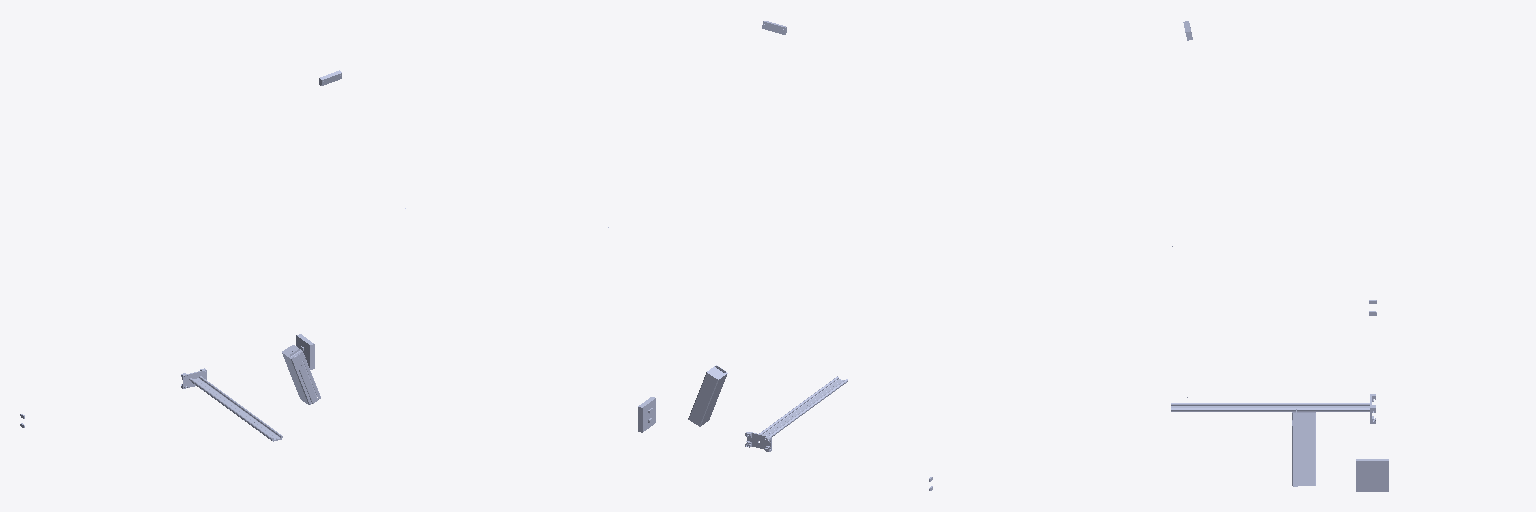
--- Render facts (derived) ---
The picture shows the robot from 3 angles, left to right: view 1: azimuth 30°, elevation 25°; view 2: azimuth 150°, elevation 25°; view 3: azimuth 270°, elevation 25°; orthographic projection.
Model robo_description with 21 links and 20 joints (2 revolute, 2 prismatic, 16 fixed), rooted at base_link, posed all joints at 0 but 1 set to mid-range because 0 is outside their limits (joint5 = 0.4665).
Visible links, largest first — view 1: link2, link5; view 2: link2, link5, base_link; view 3: link2, link5, base_link.
Link boxes in pixels (x1,y1,x2,y2): link2: [181, 368, 282, 441]; link5: [282, 345, 320, 404]; link2: [745, 376, 847, 451]; link5: [688, 365, 727, 426]; base_link: [638, 397, 932, 490]; link2: [1171, 394, 1375, 423]; link5: [1292, 409, 1315, 486]; base_link: [1356, 300, 1388, 491].
Bounding box of the posed robot: 1.65 × 0.657 × 1.48 m (x, y, z).
Meshes: 6 distinct files referenced, 4 mesh visuals loaded (4 binary STL); not drawn: 2 (reference not matched to a file when rendering).

URDF robot description (robo_description):
<?xml version="1.0" encoding="utf-8"?>
<!-- 25AUG2023 Changed the minimum limit of lJoint5 to 0.247 and max to 0.686 -->
<!-- This URDF was automatically created by SolidWorks to URDF Exporter! Originally created by Stephen Brawner ([email redacted]) 
     Commit Version: 1.6.0-4-g7f85cfe  Build Version: 1.6.7995.38578
     For more information, please see http://wiki.ros.org/sw_urdf_exporter -->
<robot
  name="robo_description">
  <link
    name="base_link">
    <inertial>
      <origin
        xyz="-5.13826234849775E-17 -1.63904738952765E-17 0.339473684210526"
        rpy="0 0 0" />
      <mass
        value="19" />
      <inertia
        ixx="2.34956140350877"
        ixy="1.11311423041845E-17"
        ixz="3.69215798456927E-16"
        iyy="2.34956140350877"
        iyz="-7.44985984223617E-17"
        izz="0.151666666666667" />
    </inertial>
    <visual>
      <origin
        xyz="0 0 0"
        rpy="0 0 0" />
      <geometry>
        <mesh
          filename="package://robo_description/meshes/base_link.STL" />
      </geometry>
      <material
        name="">
        <color
          rgba="0.792156862745098 0.819607843137255 0.933333333333333 1" />
      </material>
    </visual>
    <collision>
      <origin
        xyz="0 0 0"
        rpy="0 0 0" />
      <geometry>
        <mesh
          filename="package://robo_description/meshes/base_link.STL" />
      </geometry>
    </collision>
  </link>
  <link
    name="link2">
    <inertial>
      <origin
        xyz="-0.001261 -0.2858 0.14572"
        rpy="0 0 0" />
      <mass
        value="3.13280329013611" />
      <inertia
        ixx="0.0169430024052603"
        ixy="-0.00280446630124331"
        ixz="0.0223183329111622"
        iyy="0.162057682822749"
        iyz="0.000505061238040558"
        izz="0.161640952999751" />
    </inertial>
    <visual>
      <origin
        xyz="0 0 -1"
        rpy="0 0 0" />
      <geometry>
        <mesh
          filename="package://robo_description/meshes/link2.STL" />
      </geometry>
      <material
        name="">
        <color
          rgba="0.792156862745098 0.819607843137255 0.933333333333333 1" />
      </material>
    </visual>
    <collision>
      <origin
        xyz="0 0 0"
        rpy="0 0 0" />
      <geometry>
        <mesh
          filename="package://robo_description/meshes/link2.STL" />
      </geometry>
    </collision>
  </link>
  <joint
    name="joint2"
    type="prismatic">
    <origin
      xyz="0.0 0 1"
      rpy="0 0 0" />
    <parent
      link="base_link" />
    <child
      link="link2" />
    <axis
      xyz="0 0 1" />
    <limit
      lower="0"
      upper="1"
      effort="0"
      velocity="0" />
  </joint>
  <link
    name="link4">
    <inertial>
      <origin
        xyz="-0.000438554587764983 0.0620490502692163 -0.172885898172371"
        rpy="0 0 0" />
      <mass
        value="0.162146723185788" />
      <inertia
        ixx="0.00336616371871891"
        ixy="1.46811284877534E-06"
        ixz="-3.57096843523024E-06"
        iyy="0.00312866852492012"
        iyz="0.00048231220150353"
        izz="0.000338308018448651" />
    </inertial>
    <visual>
      <origin
        xyz="-0.4665 0 -0.790"
        rpy="0 0 0" />
      <geometry>
        <mesh
          filename="package://robo_description/meshes/link4.STL" />
      </geometry>
      <material
        name="">
        <color
          rgba="0.792156862745098 0.819607843137255 0.933333333333333 1" />
      </material>
    </visual>
    <collision>
      <origin
        xyz="0 0 0"
        rpy="0 0 0" />
      <geometry>
        <mesh
          filename="package://robo_description/meshes/link4.STL" />
      </geometry>
    </collision>
  </link>
  <joint
    name="joint4"
    type="revolute">
    <origin
      xyz="0.46904 0 -0.21"
      rpy="0 0 0" />
    <parent
      link="link2" />
    <child
      link="link4" />
    <axis
      xyz="0 0 1" />
    <limit
      lower="-2.9671"
      upper="2.9671"
      effort="0"
      velocity="0" />
  </joint>
  <link
    name="link3">
    <inertial>
      <origin
        xyz="-0.0832189655707039 -0.0894795892974461 -0.00179630042130147"
        rpy="0 0 0" />
      <mass
        value="1.71811977068641" />
      <inertia
        ixx="0.00948440583507882"
        ixy="-0.00159429497921182"
        ixz="0.00308193362516688"
        iyy="0.035537875179704"
        iyz="0.000648421421055908"
        izz="0.0305779645247813" />
    </inertial>
    <visual>
      <origin
        xyz="-0.468545 -0.078 -0.43528"
        rpy="0 0 0" />
      <geometry>
        <mesh
          filename="package://robo_description/meshes/link3.STL" />
      </geometry>
      <material
        name="">
        <color
          rgba="0.792156862745098 0.819607843137255 0.933333333333333 1" />
      </material>
    </visual>
    <collision>
      <origin
        xyz="0 0 0"
        rpy="0 0 0" />
      <geometry>
        <mesh
          filename="package://robo_description/meshes/link3.STL" />
      </geometry>
    </collision>
  </link>
  <joint
    name="joint3"
    type="revolute">
    <origin
      xyz="0.0 0.077824 -0.35472"
      rpy="0 0 0" />
    <parent
      link="link4" />
    <child
      link="link3" />
    <axis
      xyz="0 1 0" />
    <limit
      lower="-1.5708"
      upper="1.5708"
      effort="0"
      velocity="0" />
  </joint>
  <link
    name="yanthra_link">
    <inertial>
      <origin
        xyz="-0.0832189655707036 -0.0114795892974462 -0.00179630042130124"
        rpy="0 0 0" />
      <mass
        value="1.71811977068641" />
      <inertia
        ixx="0.00948440583507882"
        ixy="-0.00159429497921182"
        ixz="0.0030819336251669"
        iyy="0.035537875179704"
        iyz="0.000648421421055907"
        izz="0.0305779645247813" />
    </inertial>
    <visual>
      <origin
        xyz="0 0 0"
        rpy="0 0 0" />
      <geometry>
        <box size="0.001 0.001 0.001"/>
      </geometry>
      <material
        name="">
        <color
          rgba="0.792156862745098 0.819607843137255 0.933333333333333 1" />
      </material>
    </visual>
    <collision>
      <origin
        xyz="0 0 0"
        rpy="0 0 0" />
      <geometry>
        <box size="0.001 0.001 0.001"/>
      </geometry>
    </collision>
  </link>
  <joint
    name="yanthra_joint"
    type="fixed">
    <origin
      xyz="0 -0.078 0"
      rpy="0 0 0" />
    <parent
      link="link3" />
    <child
      link="yanthra_link" />
    <axis
      xyz="0 0 0" />
  </joint>
  <link
    name="link5_origin">
    <inertial>
      <origin
        xyz="-0.00874999999999998 0.0375 -0.00507843424240889"
        rpy="0 0 0" />
      <mass
        value="0.0438088883035136" />
      <inertia
        ixx="3.24913884800222E-05"
        ixy="1.33063310958086E-21"
        ixz="-8.470329472543E-22"
        iyy="3.99574478810853E-06"
        iyz="-3.38875204913906E-21"
        izz="3.07317223657389E-05" />
    </inertial>
    <visual>
      <origin
        xyz="0 0 0"
        rpy="0 0 0" />
      <geometry>
        <box size="0.001 0.001 0.001"/>
      </geometry>
      <material
        name="">
        <color
          rgba="0.792156862745098 0.819607843137255 0.933333333333333 1" />
      </material>
    </visual>
    <collision>
      <origin
        xyz="0 0 0"
        rpy="0 0 0" />
      <geometry>
        <box size="0.001 0.001 0.001"/>
      </geometry>
    </collision>
  </link>
  <joint
    name="link5_origin_joint"
    type="fixed">
    <origin
      xyz="0 0 0.0"
      rpy="0 0 0" />
    <parent	
      link="yanthra_link" />
    <child
      link="link5_origin" />
    <axis
      xyz="0 0 0" />
  </joint>
  <link
    name="link5">
    <inertial>
      <origin
        xyz="0.108132413871145 2.08242781028485E-06 0.00569147154470495"
        rpy="0 0 0" />
      <mass
        value="0.277404400359573" />
      <inertia
        ixx="0.00021628976171093"
        ixy="1.27900715148446E-06"
        ixz="-0.000135093187106687"
        iyy="0.00359200319167061"
        iyz="-8.36237914028336E-08"
        izz="0.00358633509004247" />
    </inertial>
    <visual>
      <origin
        xyz="-0.715545 0 -0.43528"
        rpy="0 0 0" />
      <geometry>
        <mesh
          filename="package://robo_description/meshes/link5.STL" />
      </geometry>
      <material
        name="">
        <color
          rgba="0.792156862745098 0.819607843137255 0.933333333333333 1" />
      </material>
    </visual>
    <collision>
      <origin
        xyz="0 0 0"
        rpy="0 0 0" />
      <geometry>
        <mesh
          filename="package://robo_description/meshes/link5.STL" />
      </geometry>
    </collision>
  </link>
  <joint
    name="joint5"
    type="prismatic">
    <origin
      xyz="0.0 0 0"
      rpy="0 0 0" />
    <parent
      link="link5_origin" />
    <child
      link="link5" />
    <axis
      xyz="1 0 0" />
    <limit
      lower="0.247"
      upper="0.686"
      effort="0"
      velocity="0" />
  </joint>
  <link
    name="ee_link">
    <inertial>
      <origin
        xyz="-0.00874999999999998 0.0375 -0.00507843424240889"
        rpy="0 0 0" />
      <mass
        value="0.0438088883035136" />
      <inertia
        ixx="3.24913884800222E-05"
        ixy="1.33063310958086E-21"
        ixz="-8.470329472543E-22"
        iyy="3.99574478810853E-06"
        iyz="-3.38875204913906E-21"
        izz="3.07317223657389E-05" />
    </inertial>
    <visual>
      <origin
        xyz="0 0 0"
        rpy="0 0 0" />
      <geometry>
        <box size="0.001 0.001 0.001"/>
      </geometry>
      <material
        name="">
        <color
          rgba="0.792156862745098 0.819607843137255 0.933333333333333 1" />
      </material>
    </visual>
    <collision>
      <origin
        xyz="0 0 0"
        rpy="0 0 0" />
      <geometry>
        <box size="0.001 0.001 0.001"/>
      </geometry>
    </collision>
  </link>
  <joint
    name="ee_joint"
    type="fixed">
    <origin
      xyz="-0.085 0 0"
      rpy="0 0 0" />
    <parent	
      link="link5" />
    <child
      link="ee_link" />
    <axis
      xyz="0 0 0" />
  </joint>
  <link
    name="aruco_marker_link">
    <inertial>
      <origin
        xyz="-0.00874999999999998 0.0375 -0.00507843424240889"
        rpy="0 0 0" />
      <mass
        value="0.0438088883035136" />
      <inertia
        ixx="3.24913884800222E-05"
        ixy="1.33063310958086E-21"
        ixz="-8.470329472543E-22"
        iyy="3.99574478810853E-06"
        iyz="-3.38875204913906E-21"
        izz="3.07317223657389E-05" />
    </inertial>
    <visual>
      <origin
        xyz="0 0 0"
        rpy="0 0 0" />
      <geometry>
        <box size="0.001 0.001 0.001"/>
      </geometry>
      <material
        name="">
        <color
          rgba="0.792156862745098 0.819607843137255 0.933333333333333 1" />
      </material>
    </visual>
    <collision>
      <origin
        xyz="0 0 0"
        rpy="0 0 0" />
      <geometry>
        <box size="0.001 0.001 0.001"/>
      </geometry>
    </collision>
  </link>
  <joint
    name="aruco_joint"
    type="fixed">
    <origin
      xyz="0.0 0 0.08"
      rpy="0 0 0" />
    <parent	
      link="ee_link" />
    <child
      link="aruco_marker_link" />
    <axis
      xyz="0 0 0" />
  </joint>
  <link
    name="aruco_link_1">
    <inertial>
      <origin
        xyz="-0.00874999999999998 0.0375 -0.00507843424240889"
        rpy="0 0 0" />
      <mass
        value="0.0438088883035136" />
      <inertia
        ixx="3.24913884800222E-05"
        ixy="1.33063310958086E-21"
        ixz="-8.470329472543E-22"
        iyy="3.99574478810853E-06"
        iyz="-3.38875204913906E-21"
        izz="3.07317223657389E-05" />
    </inertial>
    <visual>
      <origin
        xyz="0 0 0"
        rpy="0 0 0" />
      <geometry>
        <box size="0.001 0.001 0.001"/>
      </geometry>
      <material
        name="">
        <color
          rgba="0.792156862745098 0.819607843137255 0.933333333333333 1" />
      </material>
    </visual>
    <collision>
      <origin
        xyz="0 0 0"
        rpy="0 0 0" />
      <geometry>
        <box size="0.001 0.001 0.001"/>
      </geometry>
    </collision>
  </link>
  <joint
    name="aruco_joint_1"
    type="fixed">
    <origin
      xyz="0.0 0.04 0.04"
      rpy="0 0 0" />
    <parent	
      link="aruco_marker_link" />
    <child
      link="aruco_link_1" />
    <axis
      xyz="0 0 0" />
  </joint>
  <link
    name="aruco_link_2">
    <inertial>
      <origin
        xyz="-0.00874999999999998 0.0375 -0.00507843424240889"
        rpy="0 0 0" />
      <mass
        value="0.0438088883035136" />
      <inertia
        ixx="3.24913884800222E-05"
        ixy="1.33063310958086E-21"
        ixz="-8.470329472543E-22"
        iyy="3.99574478810853E-06"
        iyz="-3.38875204913906E-21"
        izz="3.07317223657389E-05" />
    </inertial>
    <visual>
      <origin
        xyz="0 0 0"
        rpy="0 0 0" />
      <geometry>
        <box size="0.001 0.001 0.001"/>
      </geometry>
      <material
        name="">
        <color
          rgba="0.792156862745098 0.819607843137255 0.933333333333333 1" />
      </material>
    </visual>
    <collision>
      <origin
        xyz="0 0 0"
        rpy="0 0 0" />
      <geometry>
        <box size="0.001 0.001 0.001"/>
      </geometry>
    </collision>
  </link>
  <joint
    name="aruco_joint_2"
    type="fixed">
    <origin
      xyz="0.0 -0.04 0.04"
      rpy="0 0 0" />
    <parent	
      link="aruco_marker_link" />
    <child
      link="aruco_link_2" />
    <axis
      xyz="0 0 0" />
  </joint>
  <link
    name="aruco_link_3">
    <inertial>
      <origin
        xyz="-0.00874999999999998 0.0375 -0.00507843424240889"
        rpy="0 0 0" />
      <mass
        value="0.0438088883035136" />
      <inertia
        ixx="3.24913884800222E-05"
        ixy="1.33063310958086E-21"
        ixz="-8.470329472543E-22"
        iyy="3.99574478810853E-06"
        iyz="-3.38875204913906E-21"
        izz="3.07317223657389E-05" />
    </inertial>
    <visual>
      <origin
        xyz="0 0 0"
        rpy="0 0 0" />
      <geometry>
        <box size="0.001 0.001 0.001"/>
      </geometry>
      <material
        name="">
        <color
          rgba="0.792156862745098 0.819607843137255 0.933333333333333 1" />
      </material>
    </visual>
    <collision>
      <origin
        xyz="0 0 0"
        rpy="0 0 0" />
      <geometry>
        <box size="0.001 0.001 0.001"/>
      </geometry>
    </collision>
  </link>
  <joint
    name="aruco_joint_3"
    type="fixed">
    <origin
      xyz="0.0 0.04 -0.04"
      rpy="0 0 0" />
    <parent	
      link="aruco_marker_link" />
    <child
      link="aruco_link_3" />
    <axis
      xyz="0 0 0" />
  </joint>
  <link
    name="aruco_link_4">
    <inertial>
      <origin
        xyz="-0.00874999999999998 0.0375 -0.00507843424240889"
        rpy="0 0 0" />
      <mass
        value="0.0438088883035136" />
      <inertia
        ixx="3.24913884800222E-05"
        ixy="1.33063310958086E-21"
        ixz="-8.470329472543E-22"
        iyy="3.99574478810853E-06"
        iyz="-3.38875204913906E-21"
        izz="3.07317223657389E-05" />
    </inertial>
    <visual>
      <origin
        xyz="0 0 0"
        rpy="0 0 0" />
      <geometry>
        <box size="0.001 0.001 0.001"/>
      </geometry>
      <material
        name="">
        <color
          rgba="0.792156862745098 0.819607843137255 0.933333333333333 1" />
      </material>
    </visual>
    <collision>
      <origin
        xyz="0 0 0"
        rpy="0 0 0" />
      <geometry>
        <box size="0.001 0.001 0.001"/>
      </geometry>
    </collision>
  </link>
  <joint
    name="aruco_joint_4"
    type="fixed">
    <origin
      xyz="0.0 -0.04 -0.04"
      rpy="0 0 0" />
    <parent	
      link="aruco_marker_link" />
    <child
      link="aruco_link_4" />
    <axis
      xyz="0 0 0" />
  </joint>
  <link
    name="link7">
    <inertial>
      <origin
        xyz="-0.00129487747822488 -0.0114795892973884 0.11996423535158"
        rpy="0 0 0" />
      <mass
        value="1.71811977068641" />
      <inertia
        ixx="0.0113386071435481"
        ixy="-0.00171490439294498"
        ixz="-0.00672100859249017"
        iyy="0.0355378751797041"
        iyz="-0.0001460470577602"
        izz="0.0287237632163119" />
    </inertial>
    <visual>
      <origin
        xyz="0 0 0"
        rpy="0 0 0" />
      <geometry>
        <box size="0.001 0.001 0.001"/>
      </geometry>
      <material
        name="">
        <color
          rgba="0.792156862745098 0.819607843137255 0.933333333333333 1" />
      </material>
    </visual>
    <collision>
      <origin
        xyz="0 0 0"
        rpy="0 0 0" />
      <geometry>
        <box size="0.001 0.001 0.001"/>
      </geometry>
    </collision>
  </link>
  <joint
    name="joint7"
    type="fixed">
    <origin
      xyz="0.47229 -0.069971 0.79711"
      rpy="0 0.785398 -1.5708" />
    <parent
      link="base_link"/>
    <child
      link="link7"/>
    <axis
      xyz="0 0 0" />
  </joint>
  <link
    name="camera_mount_link">
    <inertial>
      <origin
        xyz="-0.00129487747822488 -0.0114795892973883 0.11996423535158"
        rpy="0 0 0" />
      <mass
        value="1.71811977068641" />
      <inertia
        ixx="0.0113386071435481"
        ixy="-0.00171490439294498"
        ixz="-0.00672100859249018"
        iyy="0.0355378751797041"
        iyz="-0.000146047057760202"
        izz="0.0287237632163119" />
    </inertial>
    <visual>
      <origin
        xyz="0 0 0"
        rpy="0 0 0" />
      <geometry>
        <box size="0.001 0.001 0.001"/>
      </geometry>
      <material
        name="">
        <color
          rgba="0.792156862745098 0.819607843137255 0.933333333333333 1" />
      </material>
    </visual>
    <collision>
      <origin
        xyz="0 0 0"
        rpy="0 0 0" />
      <geometry>
        <box size="0.001 0.001 0.001"/>
      </geometry>
    </collision>
  </link>
     <!--Realsense Camera depth is 20 mm from back to glass, But the depth start point(GROUND ZERO REFERENCE i.e depth is Zero) is 1.1 mm behind glass-->
     <!--Camera thickness-Zero Ref +Plate thick=20-1.1+2 = 20.09 mm -->
     <!-- xyz="0.0209 -0.0375 0"-->
  <joint
    name="camera_mount_joint"
    type="fixed">
    <origin
      xyz="0.02090 -0.0375 0"
      rpy="-1.5708 0 -1.5708" />
    <parent
      link="link7" />
    <child
      link="camera_mount_link" />
    <axis
      xyz="0 0 0" />
  </joint>
  <link
    name="virtual_cam_link">
    <inertial>
      <origin
        xyz="-0.00874999999999998 0.0375 -0.00507843424240889"
        rpy="0 0 0" />
      <mass
        value="0.0438088883035136" />
      <inertia
        ixx="3.24913884800222E-05"
        ixy="1.33063310958086E-21"
        ixz="-8.470329472543E-22"
        iyy="3.99574478810853E-06"
        iyz="-3.38875204913906E-21"
        izz="3.07317223657389E-05" />
    </inertial>
    <visual>
      <origin
        xyz="0 0 0"
        rpy="0 0 0" />
      <geometry>
        <box size="0.001 0.001 0.001"/>
      </geometry>
      <material
        name="">
        <color
          rgba="0.792156862745098 0.819607843137255 0.933333333333333 1" />
      </material>
    </visual>
    <collision>
      <origin
        xyz="0 0 0"
        rpy="0 0 0" />
      <geometry>
        <box size="0.001 0.001 0.001"/>
      </geometry>
    </collision>
  </link>
  <joint
    name="virtual_cam_link_joint"
    type="fixed">
    <origin
      xyz="0 0 0"
      rpy="0 0 0" />
    <parent	
      link="camera_mount_link" />
    <child
      link="virtual_cam_link" />
    <axis
      xyz="0 0 0" />
  </joint>

  <link
    name="camera_link">
    <inertial>
      <origin
        xyz="-0.00874999999999998 0.0375 -0.00507843424240889"
        rpy="0 0 0" />
      <mass
        value="0.0438088883035136" />
      <inertia
        ixx="3.24913884800222E-05"
        ixy="1.33063310958086E-21"
        ixz="-8.470329472543E-22"
        iyy="3.99574478810853E-06"
        iyz="-3.38875204913906E-21"
        izz="3.07317223657389E-05" />
    </inertial>
    <visual>
      <origin
        xyz="-0.03768 -0.425 -0.175"
        rpy="0 -2.04 -1.5708" />
      <geometry>
        <mesh
          filename="package://robo_description/meshes/camera_link.STL" />
      </geometry>
      <material
        name="">
        <color
          rgba="0.792156862745098 0.819607843137255 0.933333333333333 1" />
      </material>
    </visual>
    <collision>
      <origin
        xyz="0 0 0"
        rpy="0 0 0" />
      <geometry>
        <mesh
          filename="package://robo_description/meshes/camera_link.STL" />
      </geometry>
    </collision>
  </link>
  <joint
    name="camera_link_joint"
    type="fixed">
    <origin
      xyz="0.0162394 0.0134653 -0.0463701"
      rpy="0.255564 -0.101484 0.00377985" />
    <parent
      link="virtual_cam_link" />
    <child
      link="camera_link" />
    <axis
      xyz="0 0 0" />
  </joint>

  <link name="camera_depth_frame">

    <visual>

    <origin xyz="0 0 0" rpy="0 0 0" />

      <geometry>

        <box size="0.001 0.001 0.001"/>

      </geometry>

    </visual>

  </link>

  <joint name="camera_depth_frame_joint" type="fixed">

    <origin rpy="0 0 0" xyz="0 0 0"/>

    <parent link="camera_link"/>

    <child link="camera_depth_frame"/>

  </joint>

  <link name="camera_depth_optical_frame">

    <visual>

    <origin xyz="0 0 0" rpy="0 0 0" />

      <geometry>

        <box size="0.001 0.001 0.001"/>

      </geometry>

    </visual>

  </link>

  <joint name="camera_depth_optical_frame_joint" type="fixed">

   <origin rpy="0 0 0" xyz="0 0 0"/>

   <parent link="camera_depth_frame"/>

   <child link="camera_depth_optical_frame"/>

  </joint>

  <link name="camera_color_frame">

    <visual>

    <origin xyz="0 0 0" rpy="0 0 0" />

      <geometry>

        <box size="0.001 0.001 0.001"/>

      </geometry>

    </visual>

  </link>

  <joint name="camera_color_frame_joint" type="fixed">

    <origin rpy="0 0 0" xyz="0 0 0"/>

    <parent link="camera_link"/>

    <child link="camera_color_frame"/>

  </joint>

  <link name="camera_color_optical_frame">

    <visual>

    <origin xyz="0 0 0" rpy="0 0 0" />

      <geometry>

        <box size="0.001 0.001 0.001"/>

      </geometry>

    </visual>

  </link>

  <joint name="camera_color_optical_frame_joint" type="fixed">

   <origin rpy="0 0 0" xyz="0 0 0"/>

   <parent link="camera_color_frame"/>

   <child link="camera_color_optical_frame"/>

  </joint>
  <gazebo reference="stand">

    <material>Gazebo/Grey</material>

  </gazebo>

  <gazebo reference="link3">

    <material>Gazebo/Green</material>

  </gazebo>

  <gazebo reference="link4">

    <material>Gazebo/Red</material>

  </gazebo>

  <gazebo reference="link5">

    <material>Gazebo/Green</material>

  </gazebo>

  <gazebo reference="link9">

    <material>Gazebo/Red</material>

  </gazebo>

  <gazebo reference="link6">

    <material>Gazebo/White</material>

  </gazebo>

  <transmission name="tran1">

    <type>transmission_interface/SimpleTransmission</type>

    <joint name="joint3">

      <hardwareInterface>hardware_interface/PositionJointInterface</hardwareInterface>

    </joint>

    <actuator name="motor1">

      <hardwareInterface>hardware_interface/PositionJointInterface</hardwareInterface>

      <mechanicalReduction>1</mechanicalReduction>

    </actuator>

  </transmission>

  <transmission name="tran1">

    <type>transmission_interface/SimpleTransmission</type>

    <joint name="joint4">

      <hardwareInterface>hardware_interface/PositionJointInterface</hardwareInterface>

    </joint>

    <actuator name="motor1">

      <hardwareInterface>hardware_interface/PositionJointInterface</hardwareInterface>

      <mechanicalReduction>1</mechanicalReduction>

    </actuator>

  </transmission>

  <transmission name="tran1">

    <type>transmission_interface/SimpleTransmission</type>

    <joint name="joint5">

      <hardwareInterface>hardware_interface/PositionJointInterface</hardwareInterface>

    </joint>

    <actuator name="motor1">

      <hardwareInterface>hardware_interface/PositionJointInterface</hardwareInterface>

      <mechanicalReduction>1</mechanicalReduction>

    </actuator>

  </transmission>

  <gazebo>

    <plugin filename="libgazebo_ros_control.so" name="gazebo_ros_control">

      <robotNameSpace>/arm_controller</robotNameSpace>

    </plugin>

  </gazebo>

</robot>
